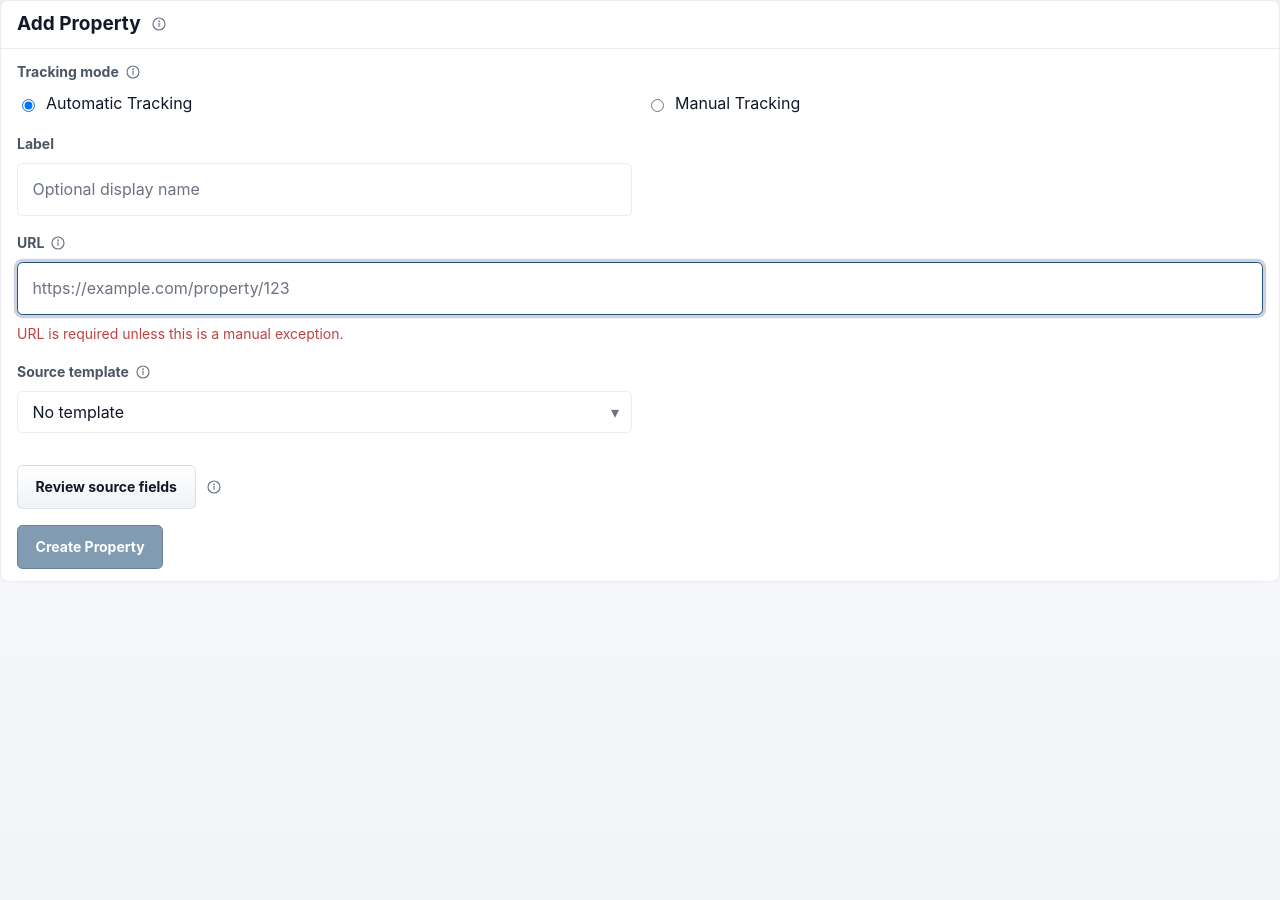
it: PropertyDetailPage › creates a property from the minimal URL-first flow
Check: the button "Review source fields" is shown, box [17,465,196,509]
Check: the button "Create Property" is disabled, box [17,525,163,569]
Type "https://example.com/listing" into the field labelled "URL" at (640, 288), box [17,262,1263,315]
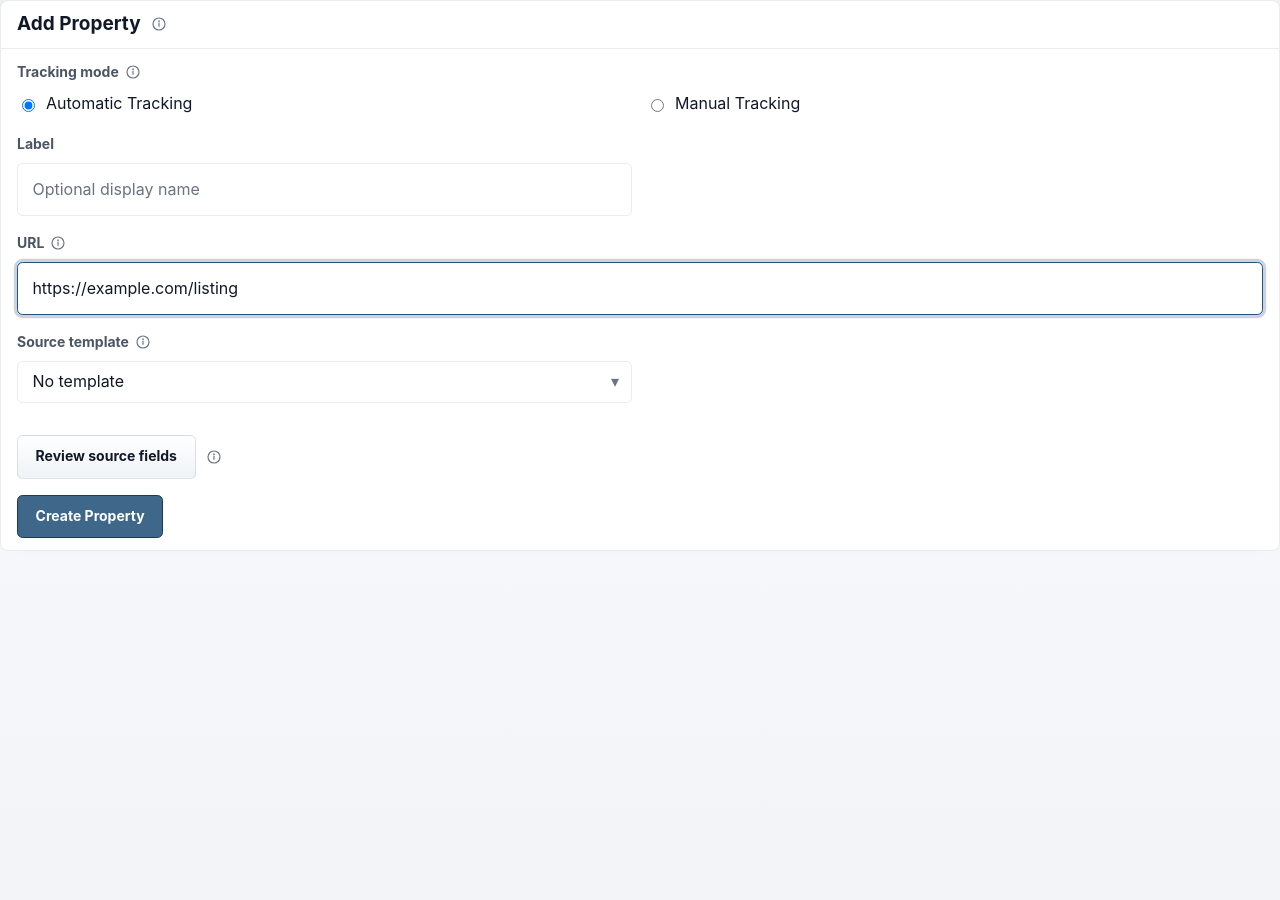
Select "Listing template" in the dropdown labelled "Source template" at (318, 382), box [32,362,603,402]
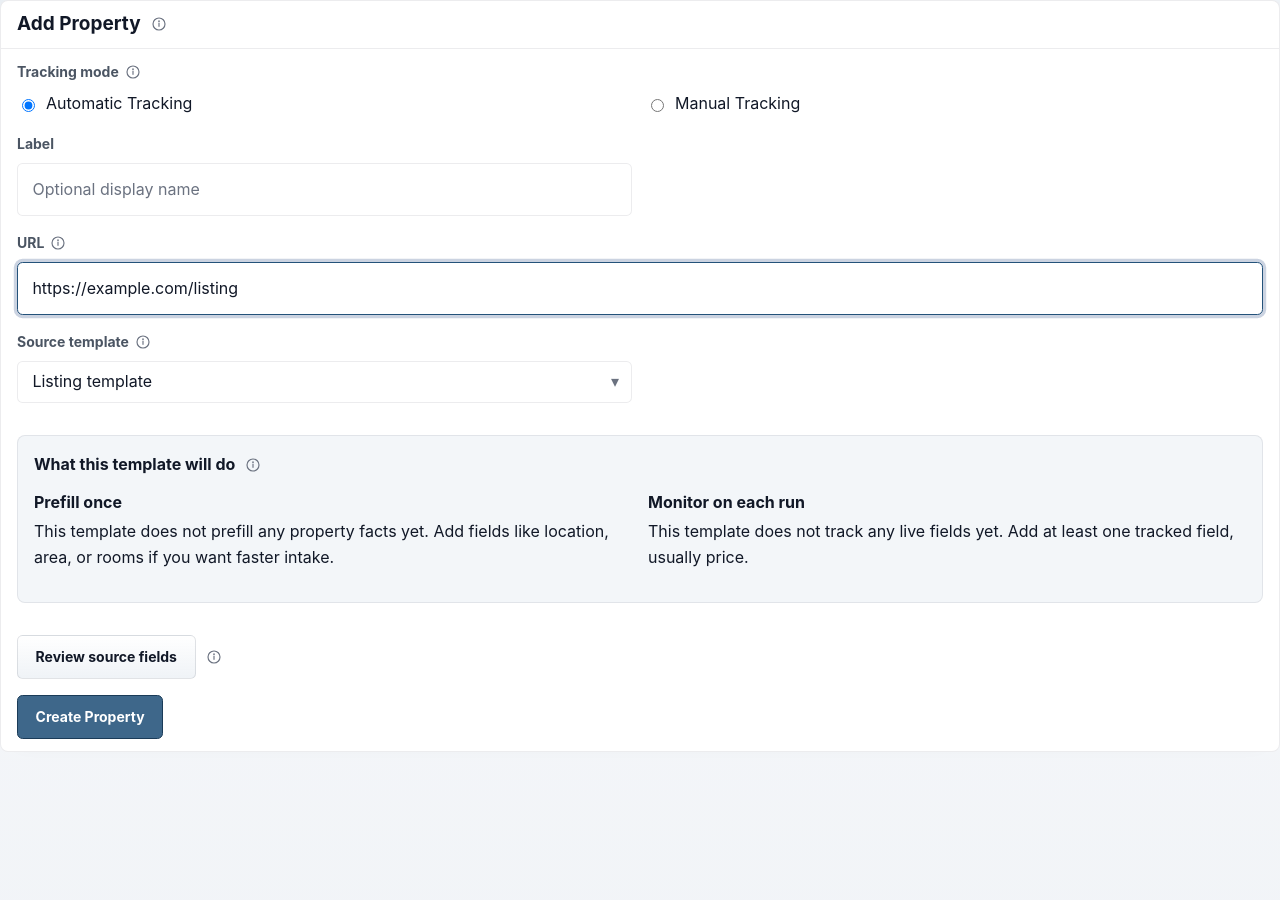
Click the button "Create Property" at (90, 717), box [17,695,163,739]
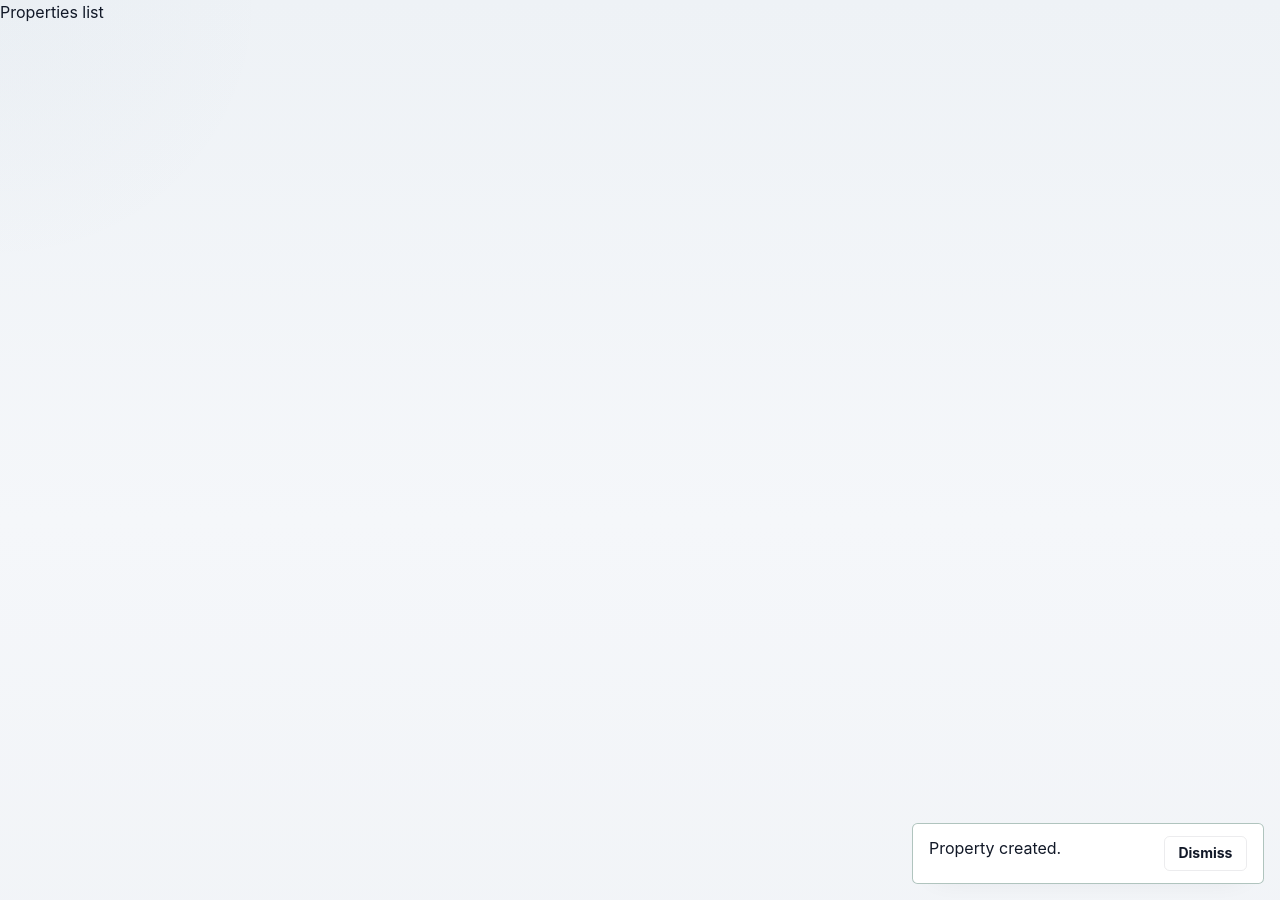
Check: the text "Properties list" is shown, box [0,2,104,22]
